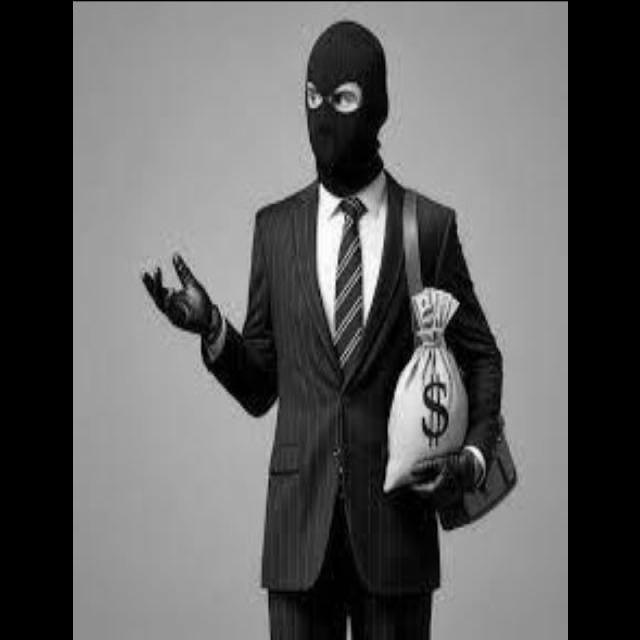6_pasamontana: (304, 16, 390, 197)
